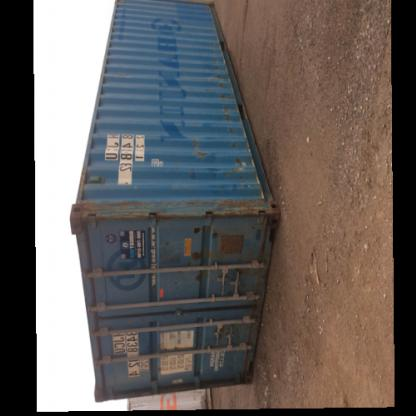Damage: (63, 200, 147, 224), (204, 197, 268, 223), (144, 199, 209, 223), (211, 47, 226, 130), (227, 110, 243, 182), (224, 310, 252, 348), (188, 134, 210, 166), (226, 266, 260, 280), (184, 274, 210, 284), (188, 224, 202, 242), (188, 249, 204, 263), (204, 228, 219, 242)
